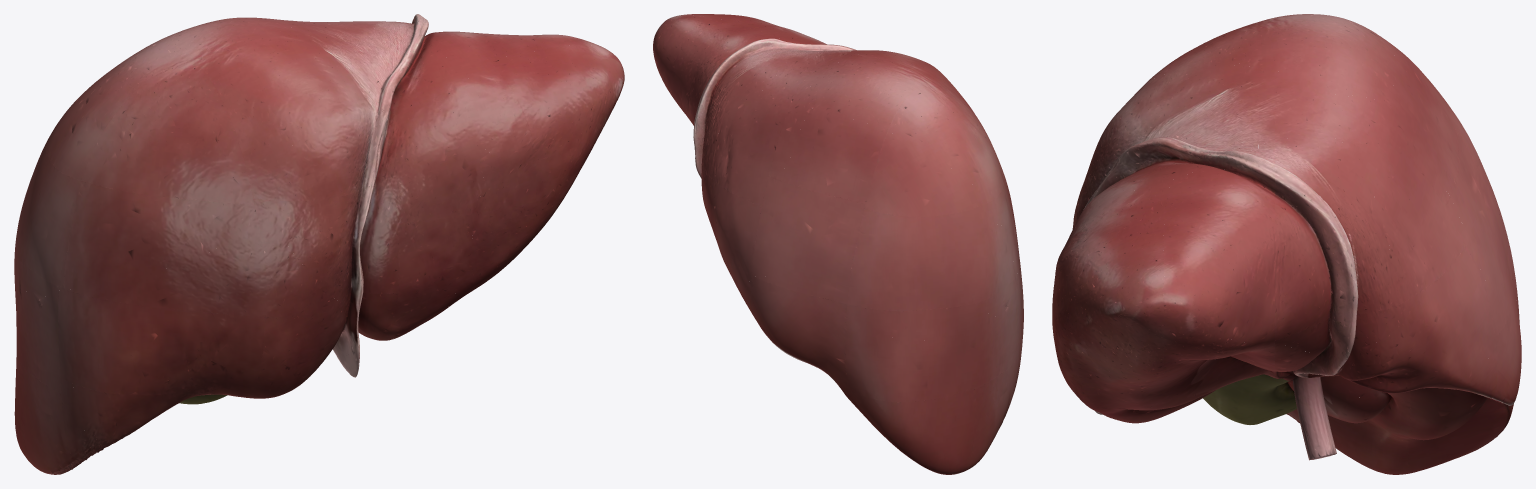
File: human_liver_couinaud_hotspots.glb
3 views of the same model, side by side, from view 1: azimuth 30°, elevation 25°; view 2: azimuth 150°, elevation 25°; view 3: azimuth 270°, elevation 25° (orthographic). The views are drawn at different scales.
Visible parts, largest first — view 1: Segment_VIII_Right_Anterosuperior, Segment_IV_Left_Medial, Segment_V_Right_Anteroinferior, Segment_III_Left_Anterolateral, Segment_VI_Right_Posteroinferior, Segment_VII_Right_Posterosuperior, Segment_II_Left_Posterolateral; view 2: Segment_VII_Right_Posterosuperior, Segment_VI_Right_Posteroinferior, Segment_VIII_Right_Anterosuperior, Segment_I_Caudate, Segment_II_Left_Posterolateral, Segment_IV_Left_Medial, Segment_III_Left_Anterolateral, Segment_V_Right_Anteroinferior; view 3: Segment_II_Left_Posterolateral, Segment_III_Left_Anterolateral, Segment_I_Caudate, Segment_IV_Left_Medial, Segment_VI_Right_Posteroinferior, Segment_VIII_Right_Anterosuperior, Segment_VII_Right_Posterosuperior, Segment_V_Right_Anteroinferior.
Part boxes in pixels (box(x1,y1,x2,y2)): Segment_VIII_Right_Anterosuperior: box(45, 17, 297, 290); Segment_IV_Left_Medial: box(273, 20, 490, 339); Segment_V_Right_Anteroinferior: box(56, 229, 391, 452); Segment_III_Left_Anterolateral: box(446, 45, 624, 308); Segment_VI_Right_Posteroinferior: box(14, 277, 98, 474); Segment_VII_Right_Posterosuperior: box(14, 73, 106, 297); Segment_II_Left_Posterolateral: box(338, 14, 600, 63); Segment_VII_Right_Posterosuperior: box(756, 111, 1017, 345); Segment_VI_Right_Posteroinferior: box(741, 269, 1020, 474); Segment_VIII_Right_Anterosuperior: box(810, 52, 1019, 274); Segment_I_Caudate: box(701, 80, 811, 294); Segment_II_Left_Posterolateral: box(653, 15, 781, 178); Segment_IV_Left_Medial: box(774, 33, 909, 82); Segment_III_Left_Anterolateral: box(660, 14, 803, 113); Segment_V_Right_Anteroinferior: box(1016, 248, 1023, 372); Segment_II_Left_Posterolateral: box(1160, 136, 1392, 370); Segment_III_Left_Anterolateral: box(1052, 181, 1322, 420); Segment_I_Caudate: box(1301, 94, 1498, 393); Segment_IV_Left_Medial: box(1068, 64, 1338, 423); Segment_VI_Right_Posteroinferior: box(1286, 294, 1521, 474); Segment_VIII_Right_Anterosuperior: box(1145, 14, 1395, 104); Segment_VII_Right_Posterosuperior: box(1387, 41, 1517, 330); Segment_V_Right_Anteroinferior: box(1095, 370, 1363, 460).
Size of the model in its own units: 1 by 0.8198 by 0.6707.
Materials: 1 (1 with a texture image).
